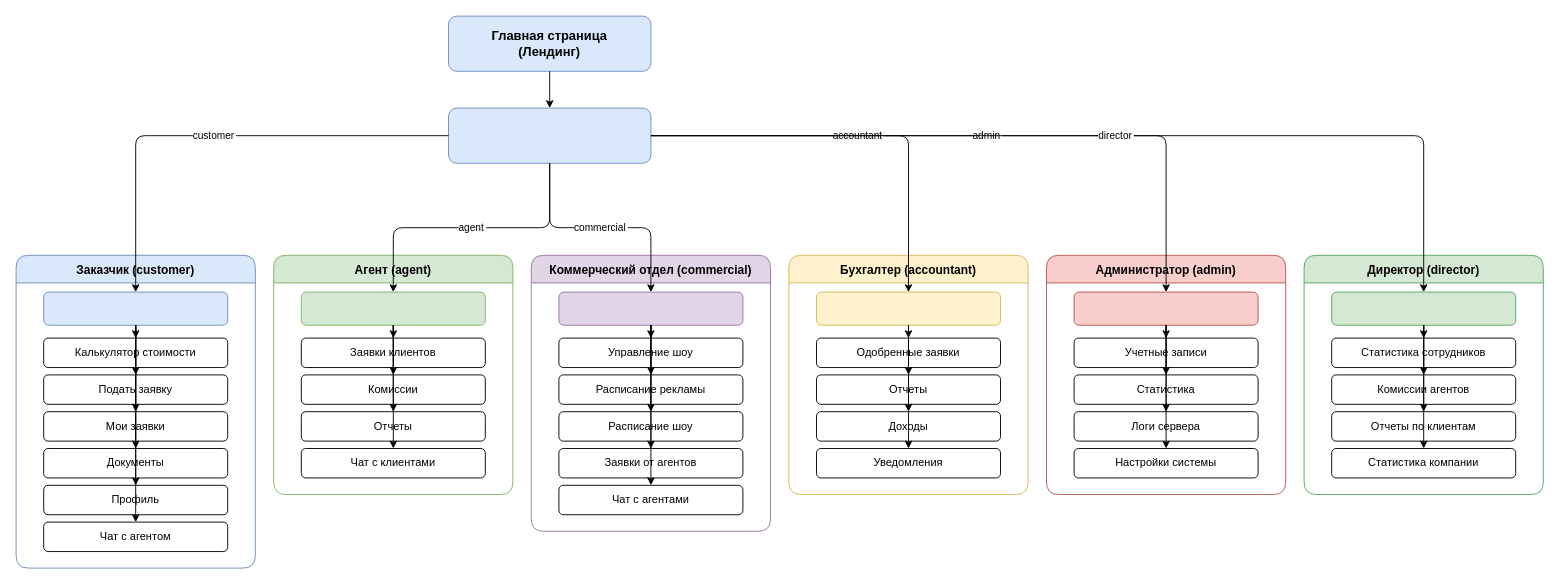
Image size: 1559x584. Some labels were removed from this diagram. The shapes that lost their labels are listed below. From the top down, each one's centre as x and y in pixels, then its label:
point (549, 135): Авторизация / Регистрация
point (135, 308): Главная заказчика
point (392, 308): Главная агента
point (650, 308): Главная комм. отдела
point (908, 308): Главная бухгалтера
point (1165, 308): Главная администратора
point (1423, 308): Главная директора
